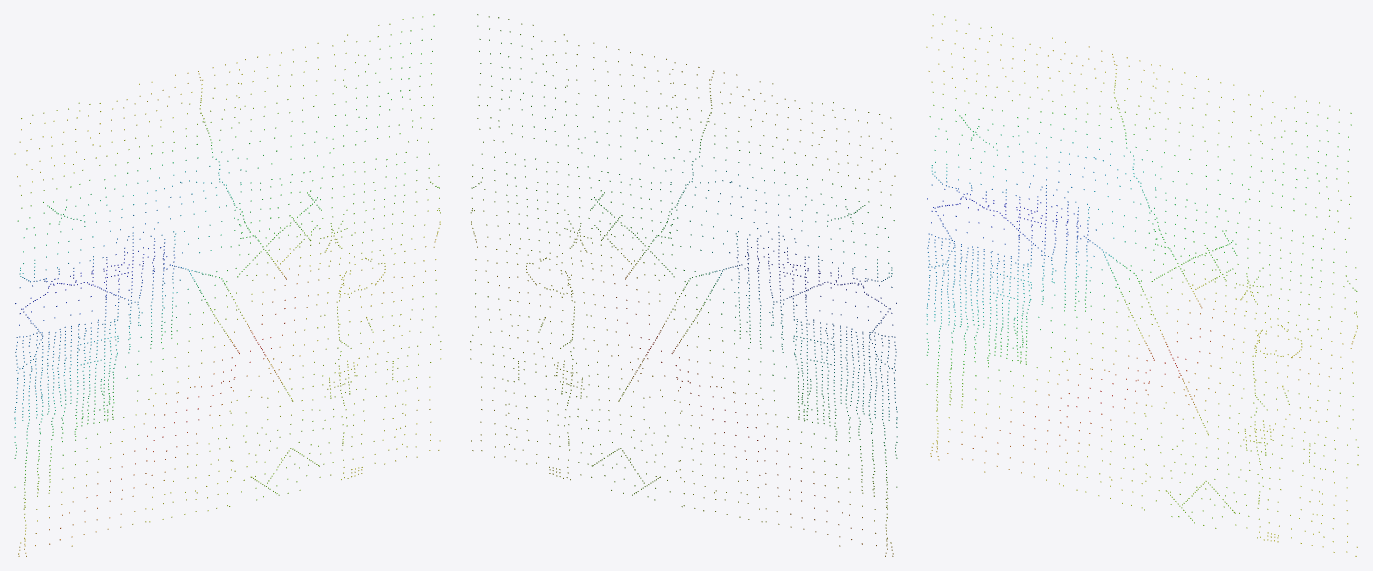
File: vsTest.dae
3 renders of one model, left to right at view 1: azimuth 30°, elevation 25°; view 2: azimuth 150°, elevation 25°; view 3: azimuth 330°, elevation 25°, orthographic.
Size of the model in its own units: 252568 by 252510 by 1084.
